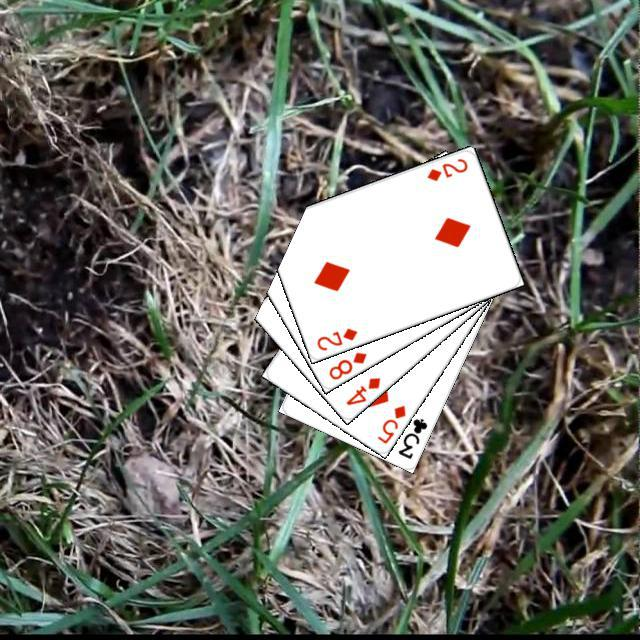2d: (422, 153, 469, 183), (312, 323, 359, 352)
3c: (393, 413, 429, 461)
4d: (341, 372, 382, 407)
5d: (372, 400, 408, 445)
8d: (324, 347, 368, 381)
